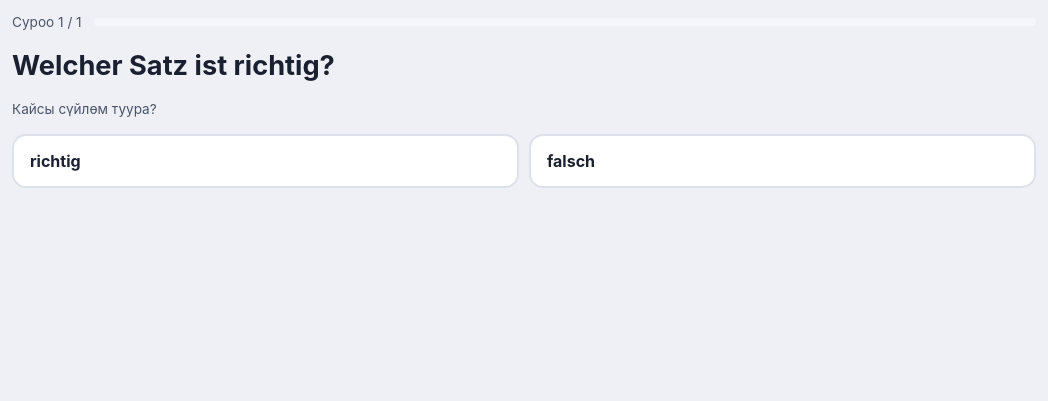
Test case: 3 · Kyrgyz and Russian prompts and explanations, strictly › a Kyrgyz learner sees the Kyrgyz prompt and explanation and NO Russian
The width and height of the screenshot is (1048, 401).
Click the button "falsch". click: (571, 160)
box: [529, 134, 1036, 188]
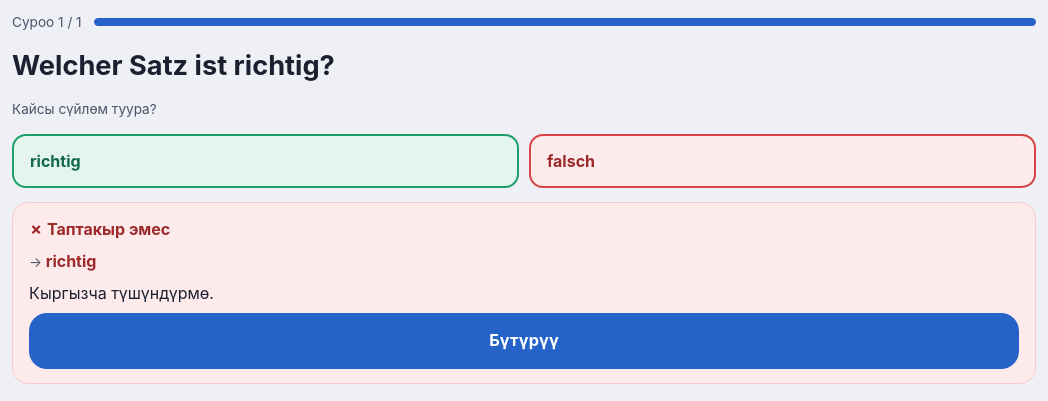
Expected: the text "Кайсы сүйлөм туура?" is shown, [12, 101, 157, 117]
Expected: the text "Кыргызча түшүндүрмө." is shown, [29, 282, 214, 302]
